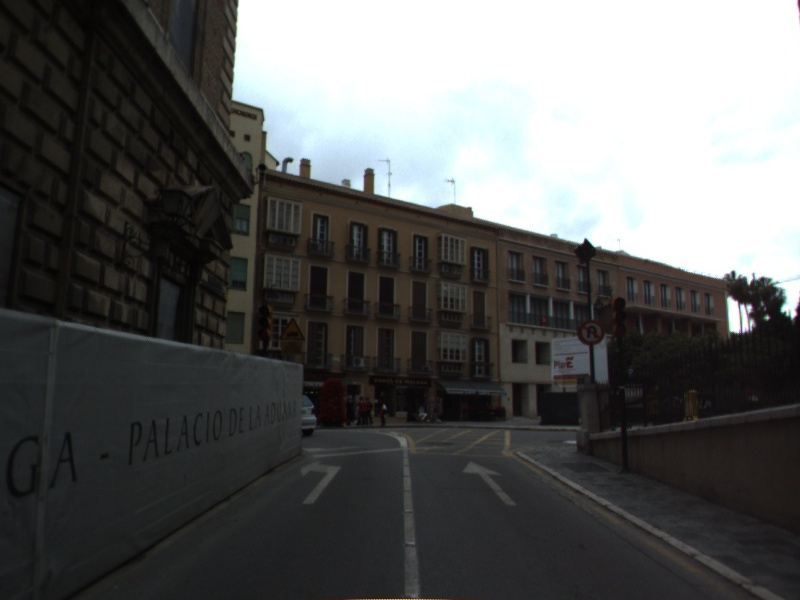LEFT: (298, 458, 344, 506)
STRAIGHT: (460, 459, 518, 507)
